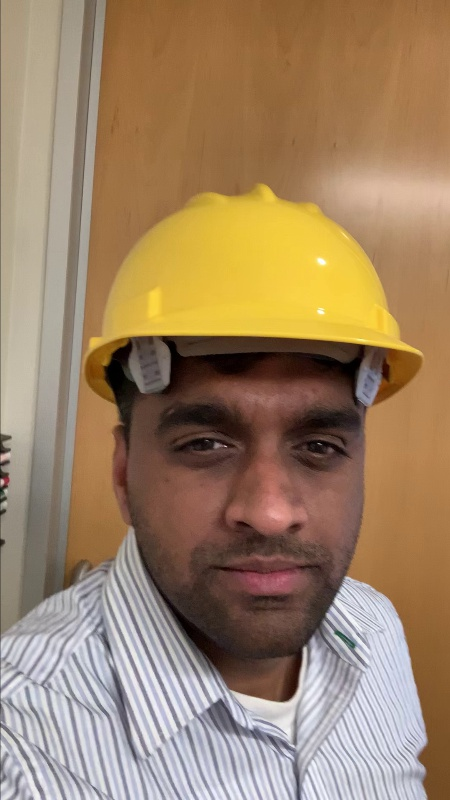helmet: (77, 177, 426, 404)
